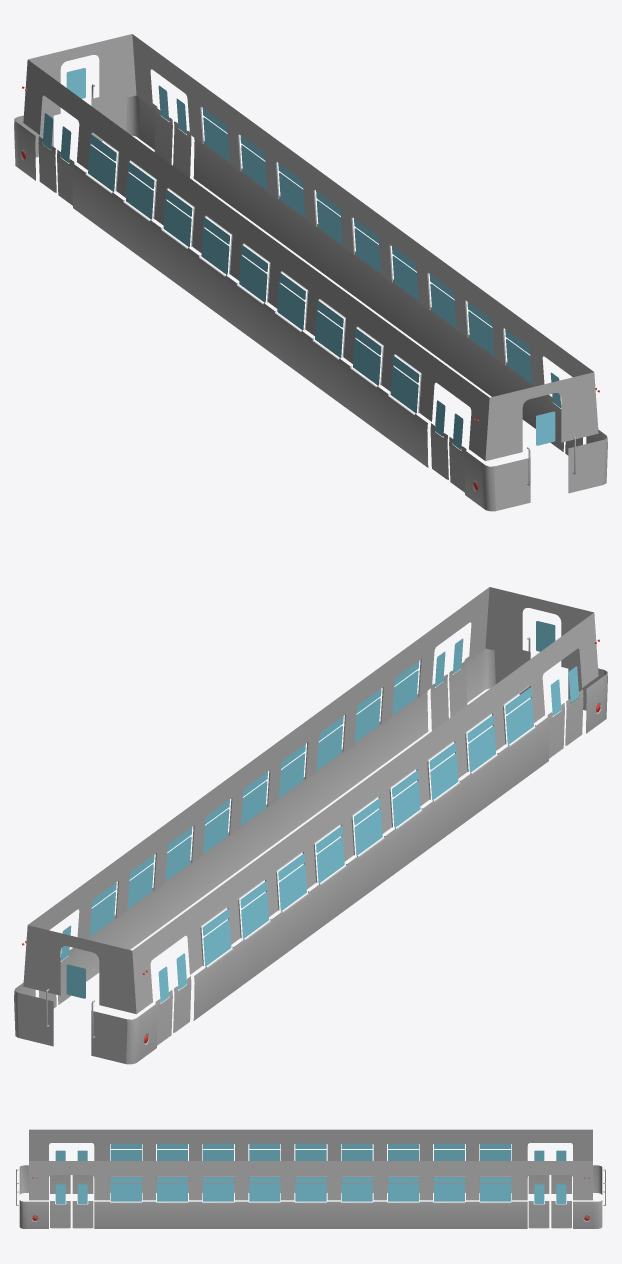
File: SM_Vehicles_Train_02.fbx
The picture shows the model from 3 angles, top to bottom: view 1: azimuth 30°, elevation 25°; view 2: azimuth 150°, elevation 25°; view 3: azimuth 270°, elevation 25°; orthographic projection. The views are drawn at different scales.
Parts seen in each view (by area): view 1: SM_Vehicles_Train_02, SM_Vehicles_Train_02_Door_8, SM_Vehicles_Train_02_Door_4, SM_Vehicles_Train_02_Door_6, SM_Vehicles_Train_02_Door_5, SM_Vehicles_Train_02_Door_7, SM_Vehicles_Train_02_Door_3; view 2: SM_Vehicles_Train_02, SM_Vehicles_Train_02_Door_3, SM_Vehicles_Train_02_Door_7, SM_Vehicles_Train_02_Door_1, SM_Vehicles_Train_02_Door_2, SM_Vehicles_Train_02_Door_4, SM_Vehicles_Train_02_Door_8; view 3: SM_Vehicles_Train_02, SM_Vehicles_Train_02_Door_2, SM_Vehicles_Train_02_Door_5, SM_Vehicles_Train_02_Door_1, SM_Vehicles_Train_02_Door_6, SM_Vehicles_Train_02_Door_4, SM_Vehicles_Train_02_Door_7, SM_Vehicles_Train_02_Door_3, SM_Vehicles_Train_02_Door_8.
Boxes of the visible parts, <box> form: SM_Vehicles_Train_02: <box>14,34,607,511</box>; SM_Vehicles_Train_02_Door_8: <box>38,113,56,192</box>; SM_Vehicles_Train_02_Door_4: <box>430,400,448,479</box>; SM_Vehicles_Train_02_Door_6: <box>154,85,172,164</box>; SM_Vehicles_Train_02_Door_5: <box>173,98,191,177</box>; SM_Vehicles_Train_02_Door_7: <box>57,126,74,205</box>; SM_Vehicles_Train_02_Door_3: <box>449,413,466,492</box>; SM_Vehicles_Train_02: <box>14,587,607,1064</box>; SM_Vehicles_Train_02_Door_3: <box>565,666,583,745</box>; SM_Vehicles_Train_02_Door_7: <box>173,953,191,1032</box>; SM_Vehicles_Train_02_Door_1: <box>449,638,467,717</box>; SM_Vehicles_Train_02_Door_2: <box>430,651,448,730</box>; SM_Vehicles_Train_02_Door_4: <box>547,679,564,758</box>; SM_Vehicles_Train_02_Door_8: <box>155,966,172,1045</box>; SM_Vehicles_Train_02: <box>16,1129,605,1228</box>; SM_Vehicles_Train_02_Door_2: <box>72,1184,93,1228</box>; SM_Vehicles_Train_02_Door_5: <box>528,1184,549,1228</box>; SM_Vehicles_Train_02_Door_1: <box>50,1184,70,1228</box>; SM_Vehicles_Train_02_Door_6: <box>551,1184,571,1228</box>; SM_Vehicles_Train_02_Door_4: <box>72,1150,93,1193</box>; SM_Vehicles_Train_02_Door_7: <box>528,1150,549,1193</box>; SM_Vehicles_Train_02_Door_3: <box>50,1150,70,1193</box>; SM_Vehicles_Train_02_Door_8: <box>551,1150,571,1193</box>.
Size of the model in its own units: 3.02 by 4.17 by 20.68.
